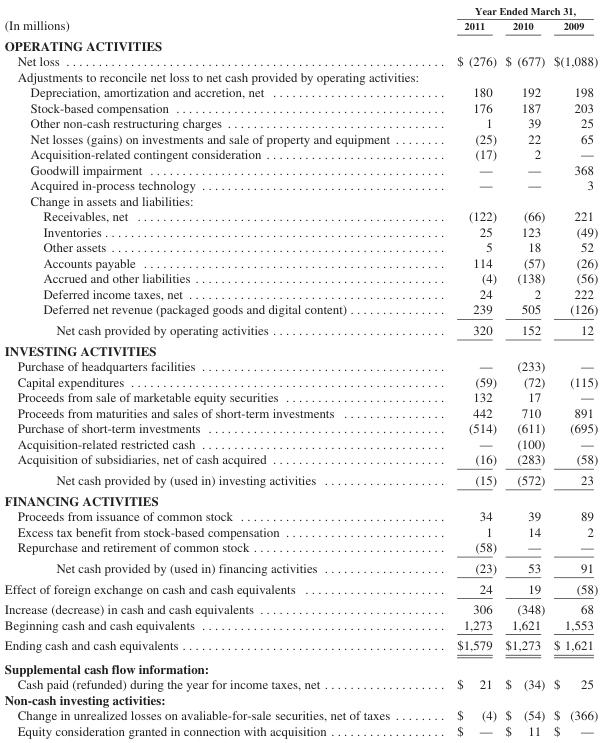table: (3, 4, 597, 737)
table column: (3, 4, 422, 737), (422, 4, 500, 737), (548, 4, 597, 737), (500, 4, 548, 737)
table column header: (3, 4, 597, 34)
table projected row header: (3, 656, 597, 676), (3, 34, 597, 53), (3, 339, 597, 358), (3, 489, 597, 508), (3, 68, 597, 84), (3, 192, 597, 208), (3, 691, 597, 707)
table row: (3, 634, 597, 656), (3, 577, 597, 598), (3, 319, 597, 339), (3, 469, 597, 489), (3, 557, 597, 577), (3, 656, 597, 676), (3, 34, 597, 53), (3, 339, 597, 358), (3, 489, 597, 508), (3, 301, 597, 319), (3, 451, 597, 469), (3, 539, 597, 557), (3, 598, 597, 616), (3, 616, 597, 634), (3, 17, 597, 34), (3, 68, 597, 84), (3, 99, 597, 115), (3, 130, 597, 146), (3, 161, 597, 177), (3, 192, 597, 208), (3, 223, 597, 239), (3, 254, 597, 270), (3, 285, 597, 301), (3, 373, 597, 389), (3, 404, 597, 420), (3, 435, 597, 451), (3, 523, 597, 539), (3, 691, 597, 707), (3, 53, 597, 68), (3, 84, 597, 99), (3, 115, 597, 130), (3, 146, 597, 161), (3, 177, 597, 192), (3, 208, 597, 223), (3, 239, 597, 254), (3, 270, 597, 285), (3, 358, 597, 373), (3, 389, 597, 404), (3, 420, 597, 435), (3, 508, 597, 523), (3, 676, 597, 691), (3, 707, 597, 722), (3, 722, 597, 737), (3, 4, 597, 17)
table spanning cell: (3, 4, 422, 34), (422, 4, 597, 17)
